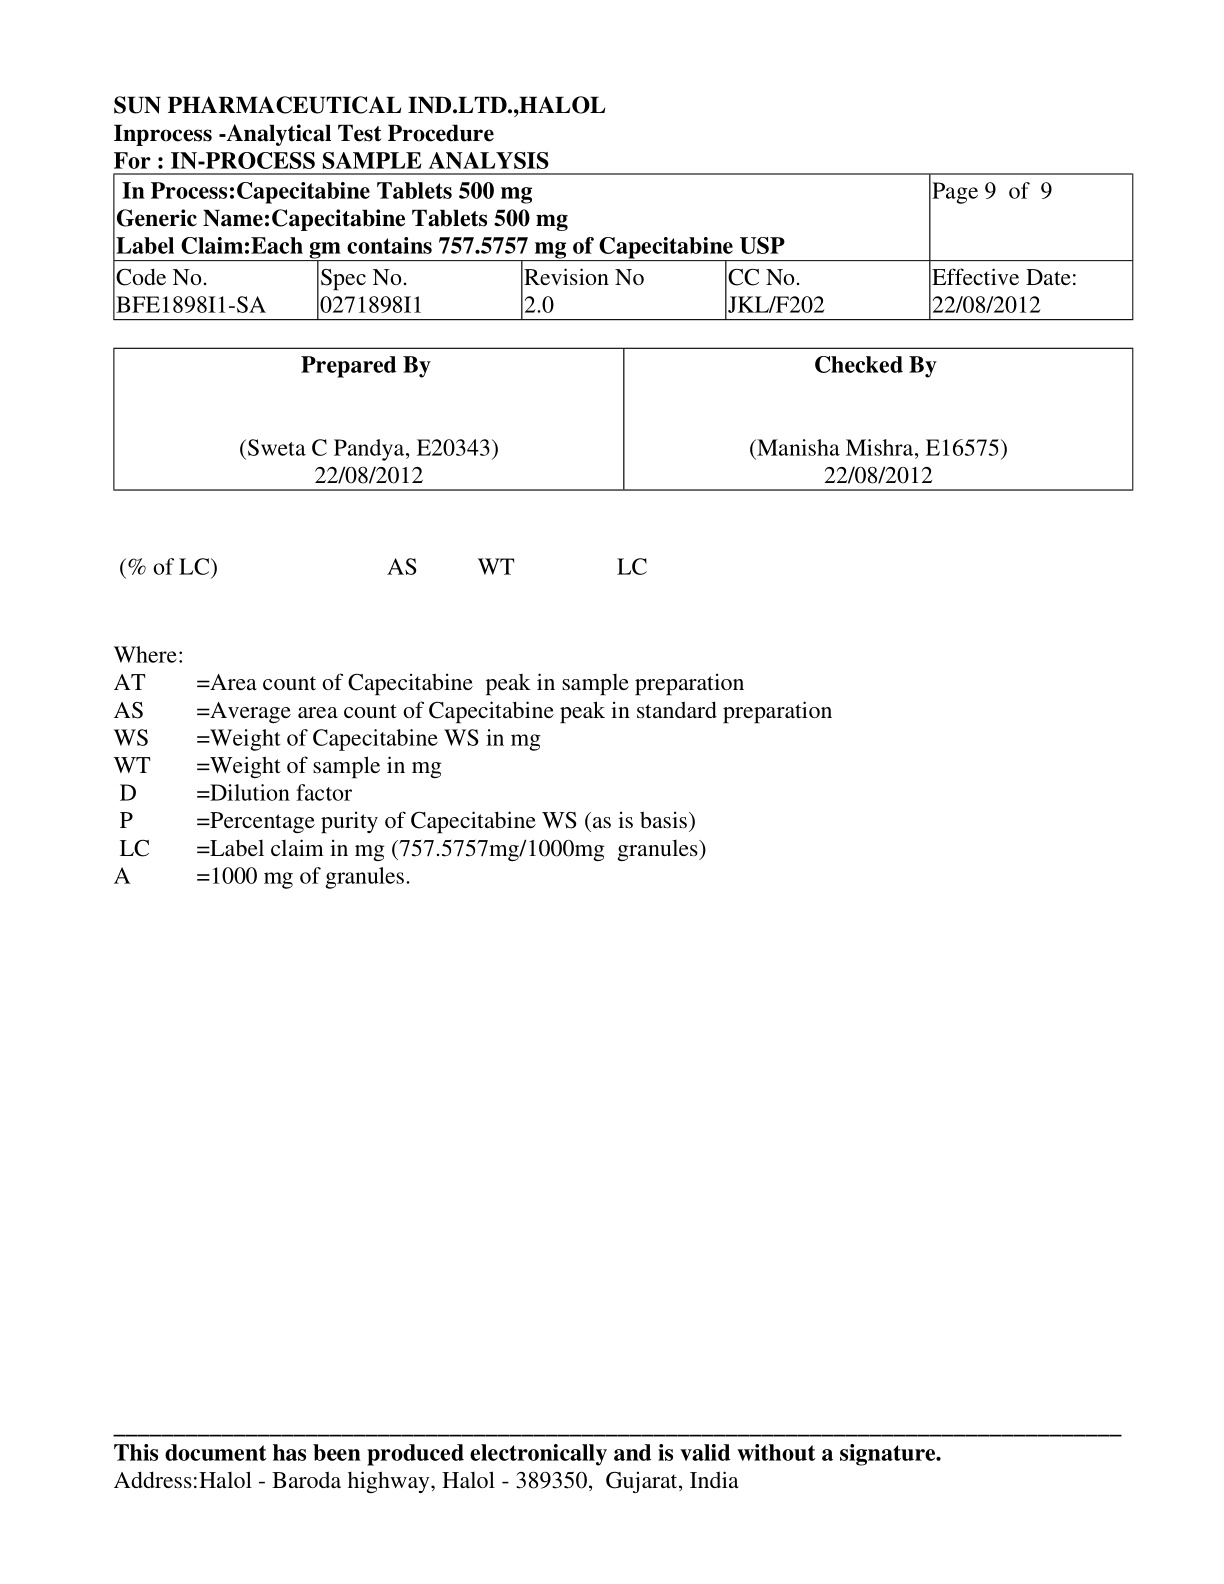merged_cells: (112, 174, 1134, 321)
partial_lined: (112, 347, 1134, 492)
